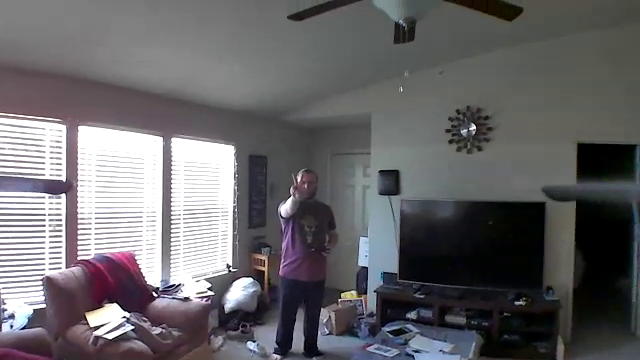peace: (284, 167, 310, 205)
